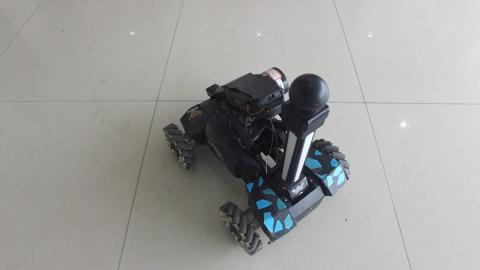chariot: (159, 53, 348, 240)
